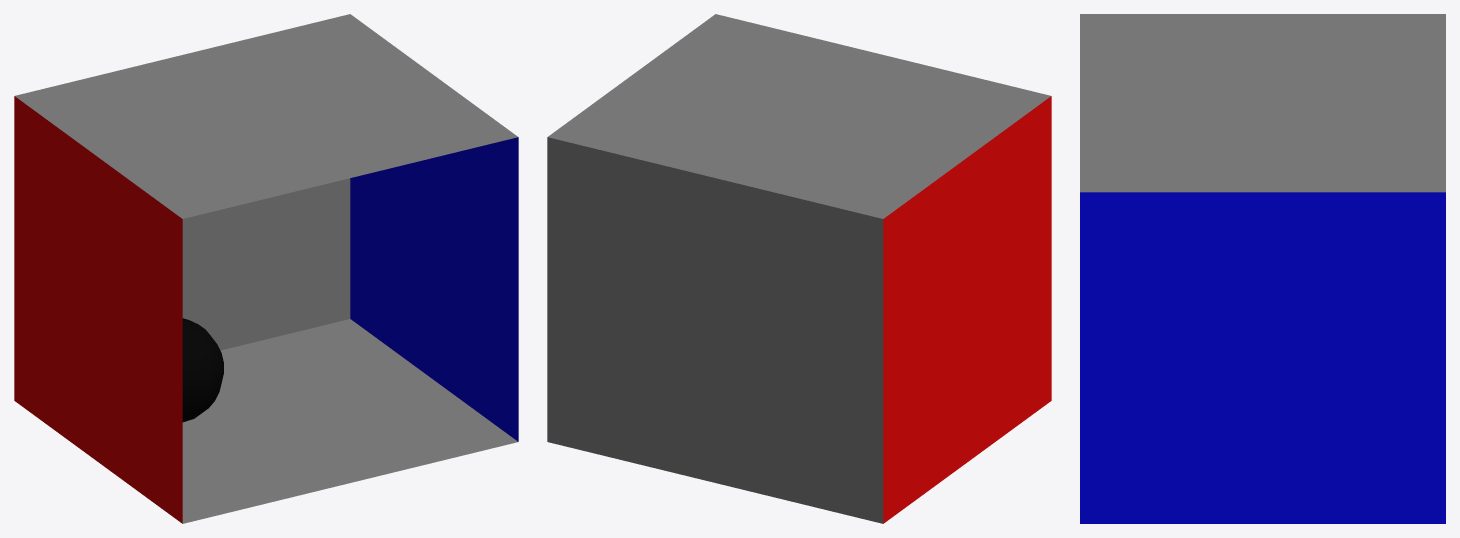
File: notrans.obj
3 renders of one model, left to right at view 1: azimuth 30°, elevation 25°; view 2: azimuth 150°, elevation 25°; view 3: azimuth 270°, elevation 25°, orthographic. The views are drawn at different scales.
Visible parts, largest first — view 1: pCube1, pSphere1; view 2: pCube1; view 3: pCube1.
Part boxes in pixels (x1,y1,x2,y2): pCube1: [14, 14, 518, 523]; pSphere1: [182, 318, 223, 422]; pCube1: [547, 14, 1051, 523]; pCube1: [1080, 14, 1445, 523].
Size of the model in its own units: 11.53 by 10 by 10.
